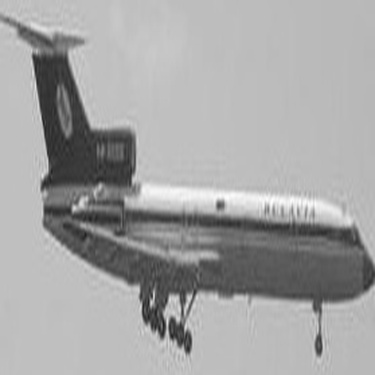airplane: (1, 10, 374, 354)
